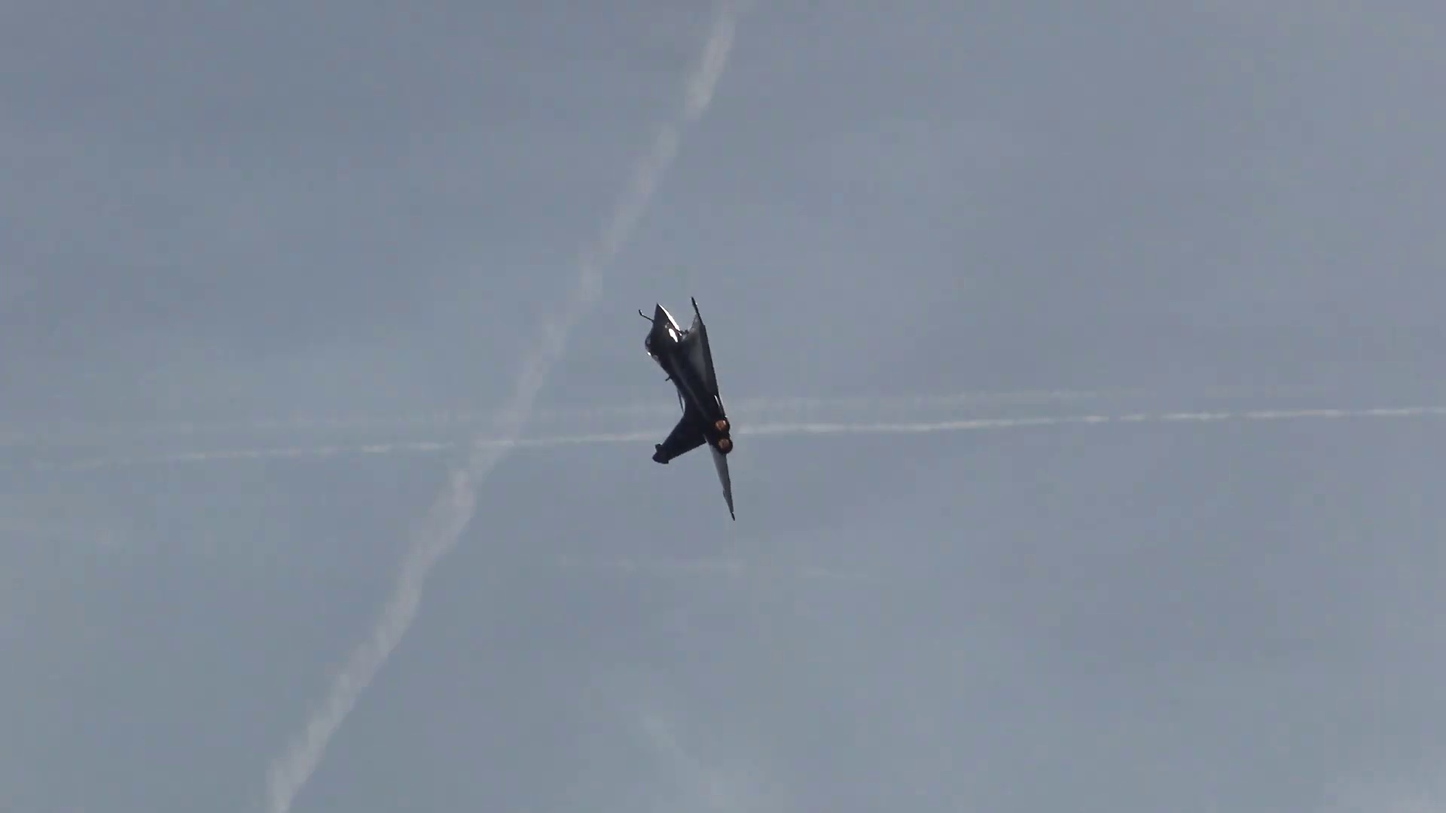Rafale: (638, 289, 746, 523)
